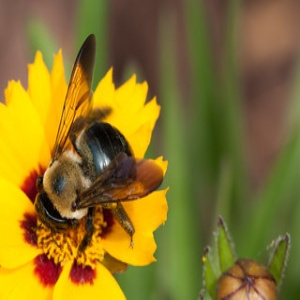bee: (33, 30, 167, 261)
